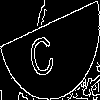C: (25, 25, 57, 80)
